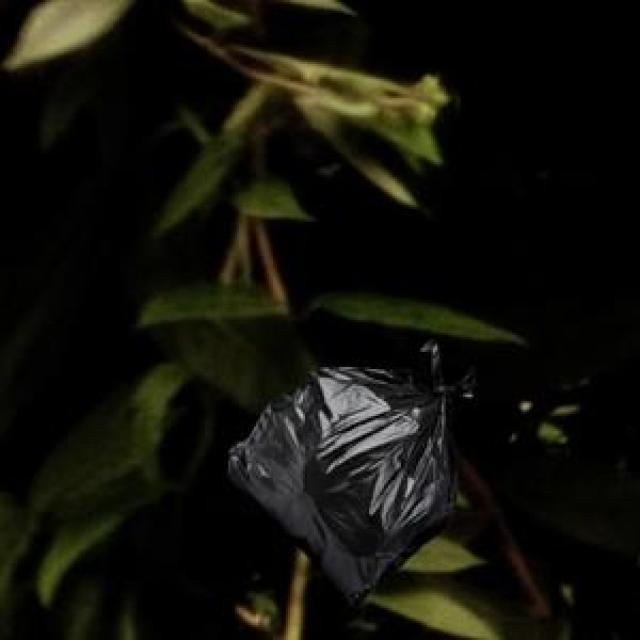garbage_bag: (220, 333, 480, 611)
